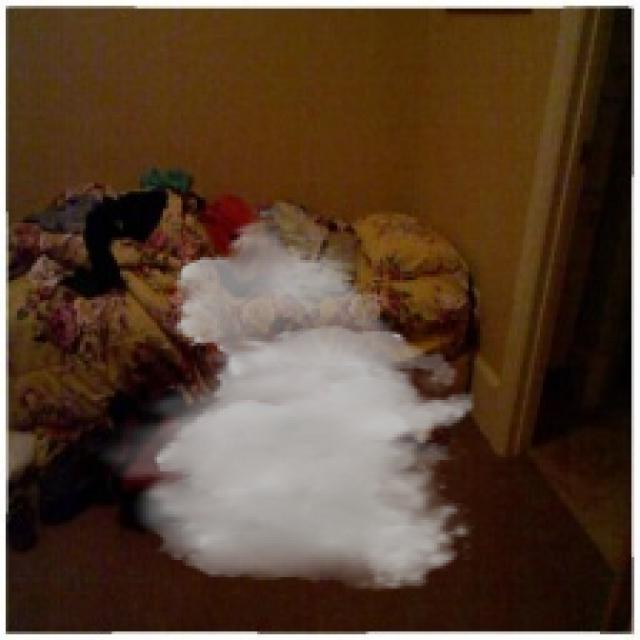Smoke: (92, 208, 477, 592)
